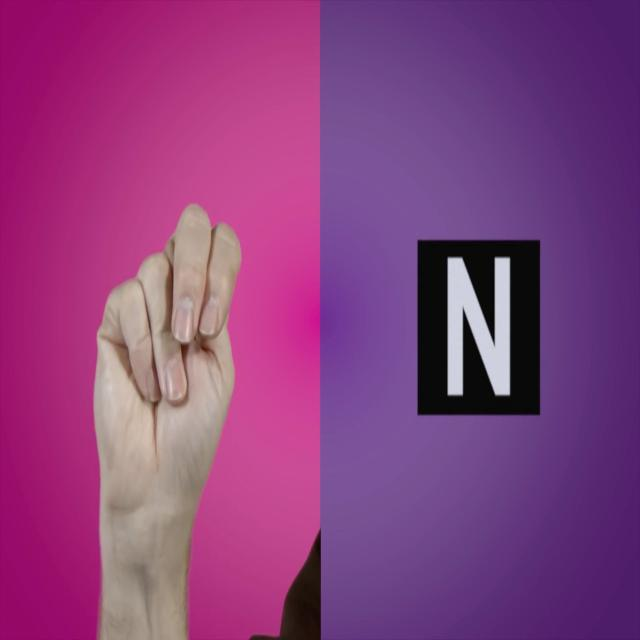N: (71, 179, 262, 640)
